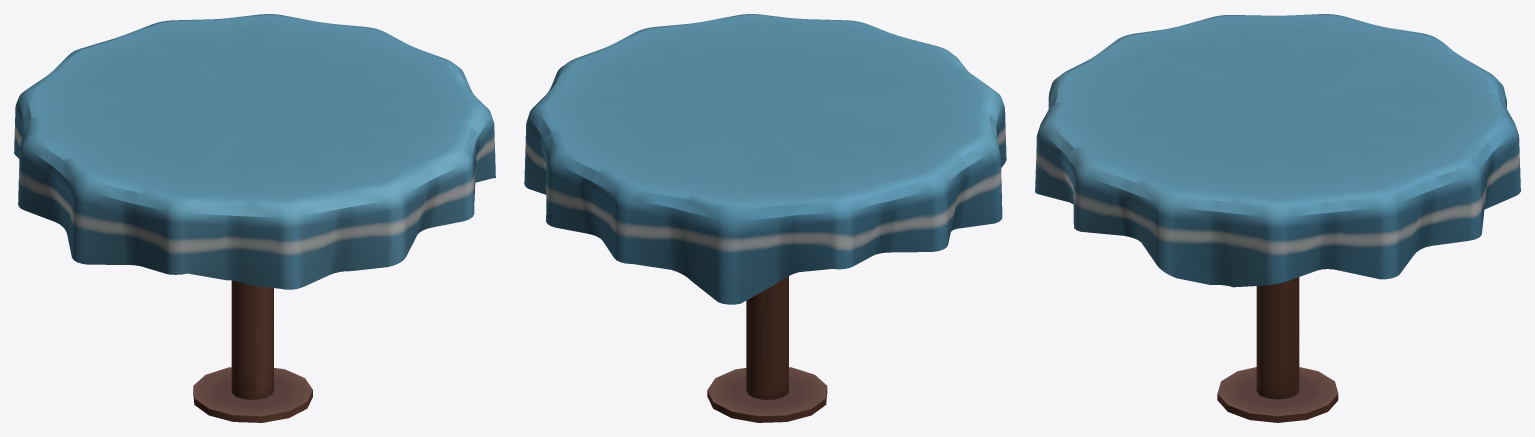
The model's file is Table.fbx.
The picture shows the model from 3 angles, left to right: view 1: azimuth 30°, elevation 25°; view 2: azimuth 150°, elevation 25°; view 3: azimuth 270°, elevation 25°; orthographic projection.
Parts seen in each view (by area): view 1: pCylinder20; view 2: pCylinder20; view 3: pCylinder20.
Part boxes in pixels (x1=…): pCylinder20: x1=14, y1=14, x2=495, y2=422; pCylinder20: x1=524, y1=14, x2=1006, y2=422; pCylinder20: x1=1035, y1=14, x2=1520, y2=422.
Bounding box in the file's own units: 49.04 × 32.58 × 49.35.
Materials: 1 (1 with a texture image).
